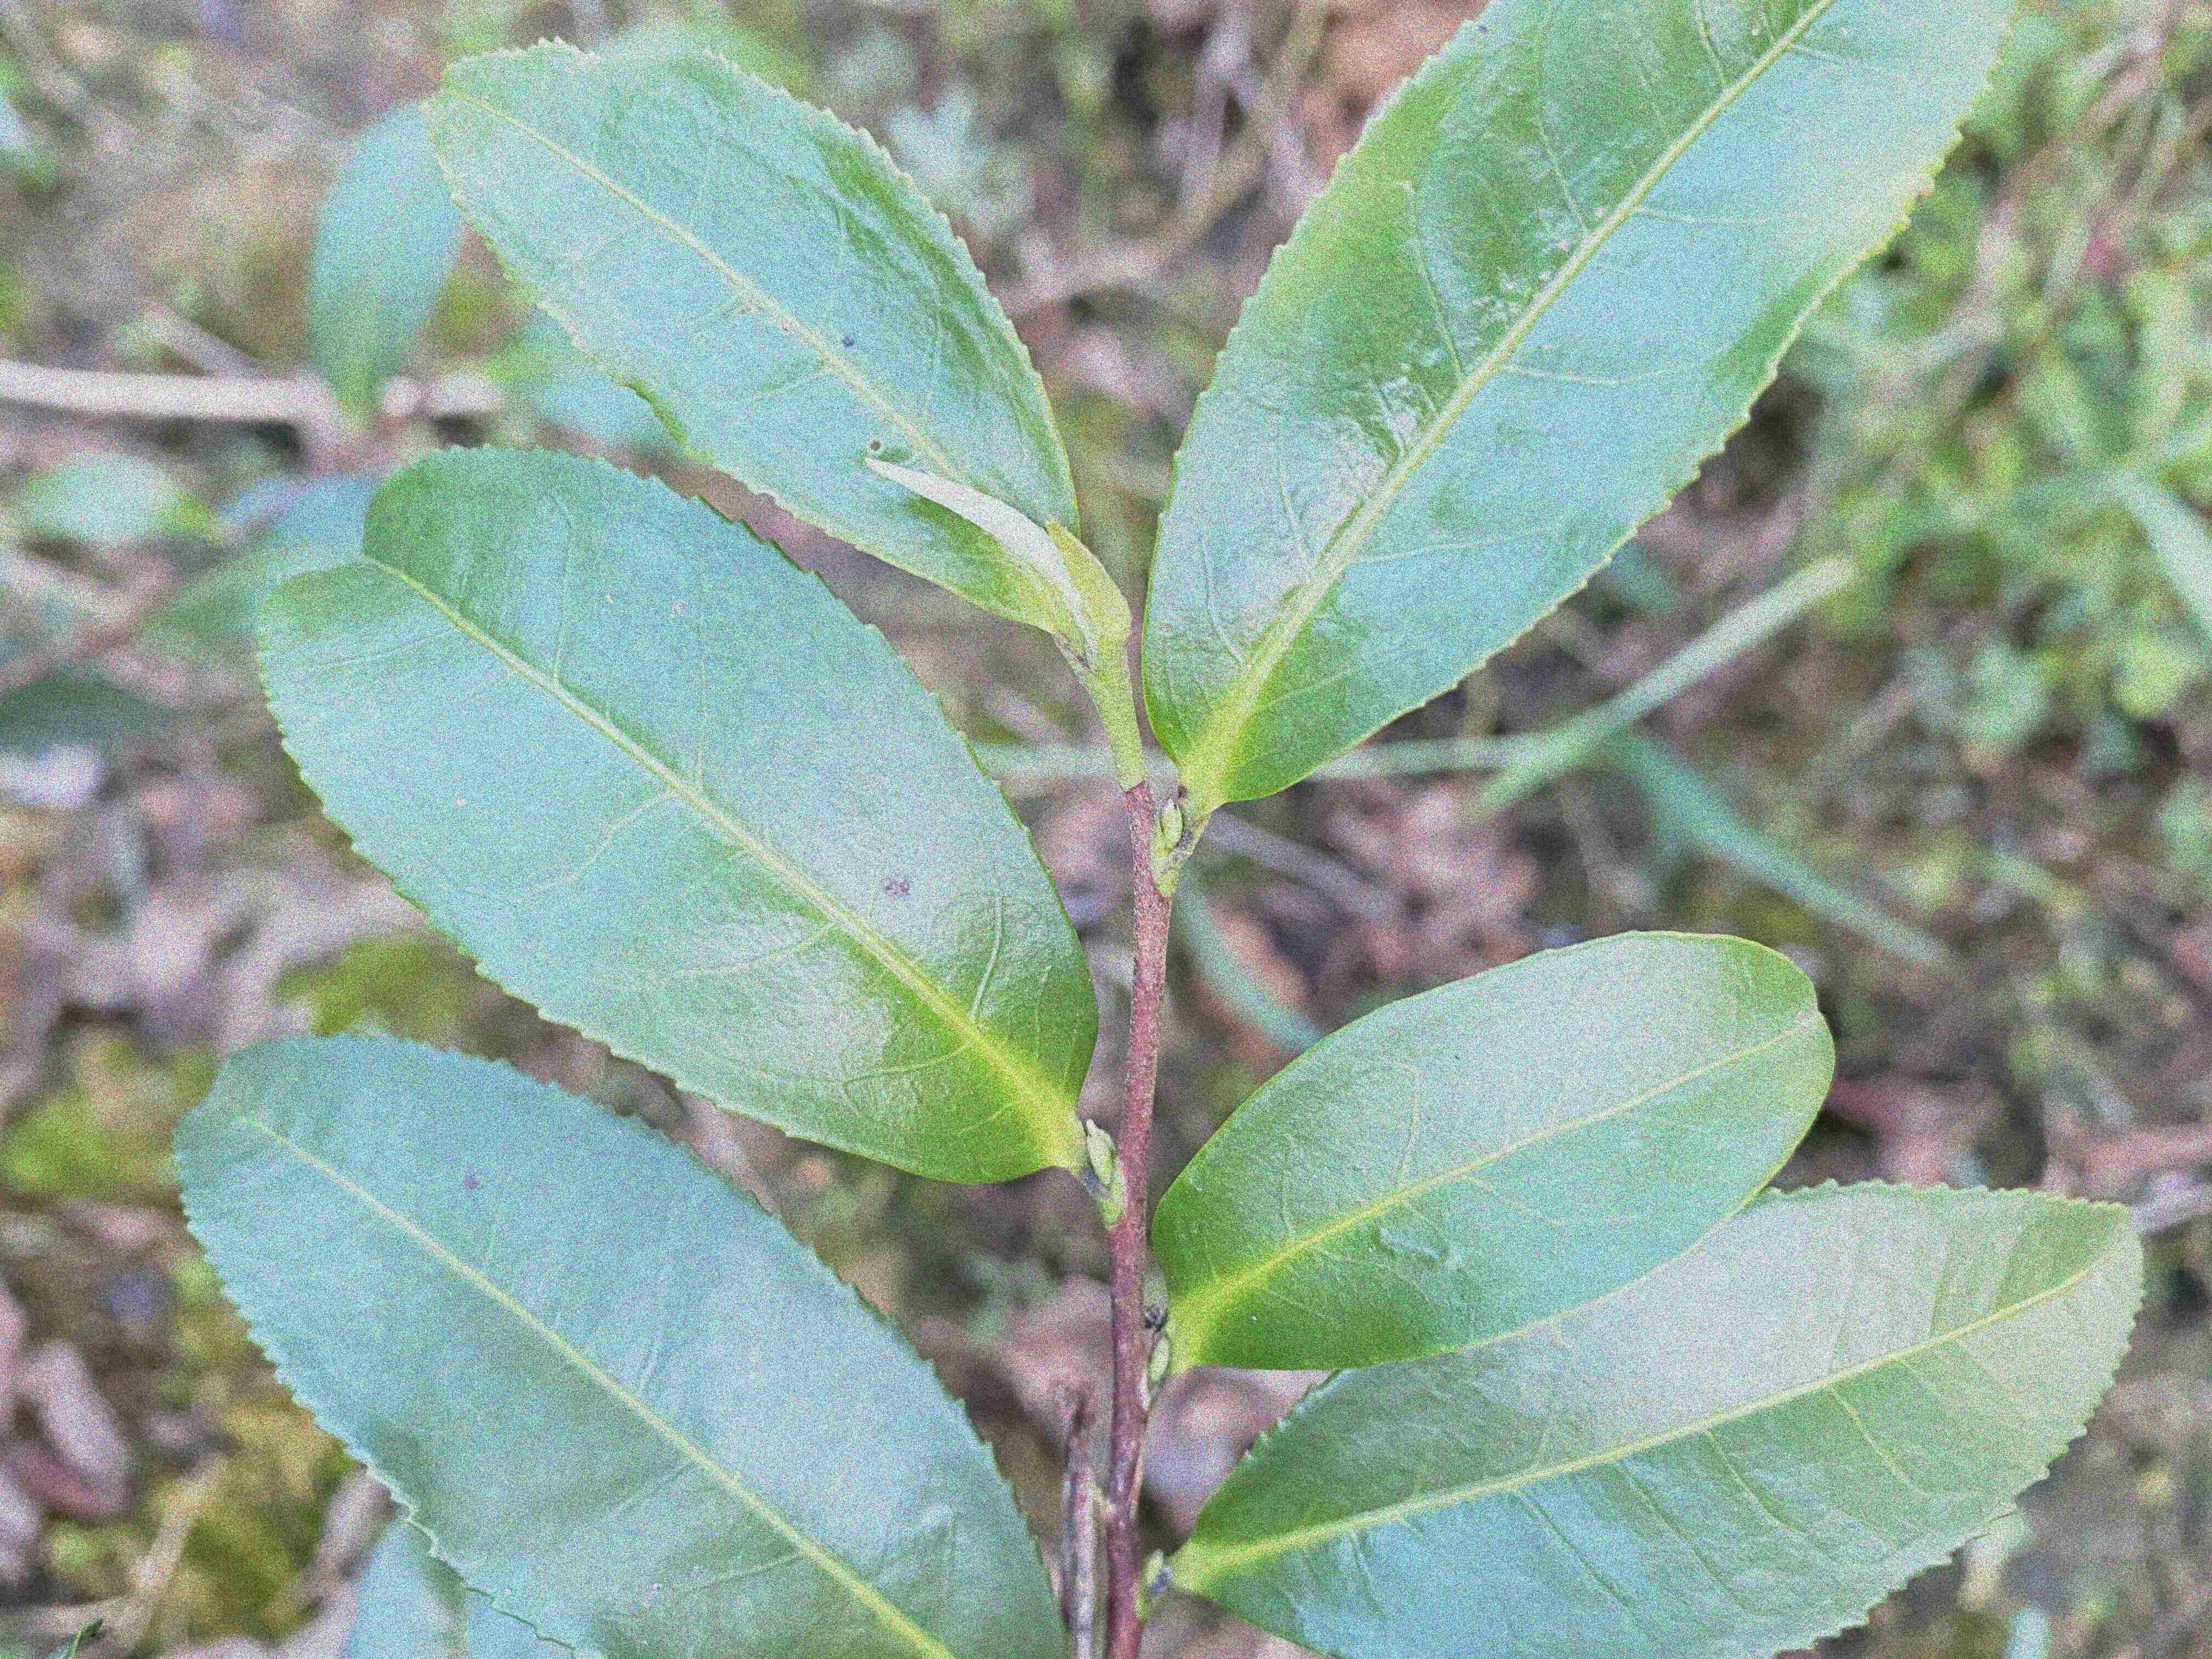healthy: (1141, 3, 2017, 807), (1179, 1178, 2149, 1657), (1151, 924, 1841, 1371)
tanju_low: (253, 441, 1101, 1187), (164, 1035, 1069, 1657), (420, 38, 1083, 633)
